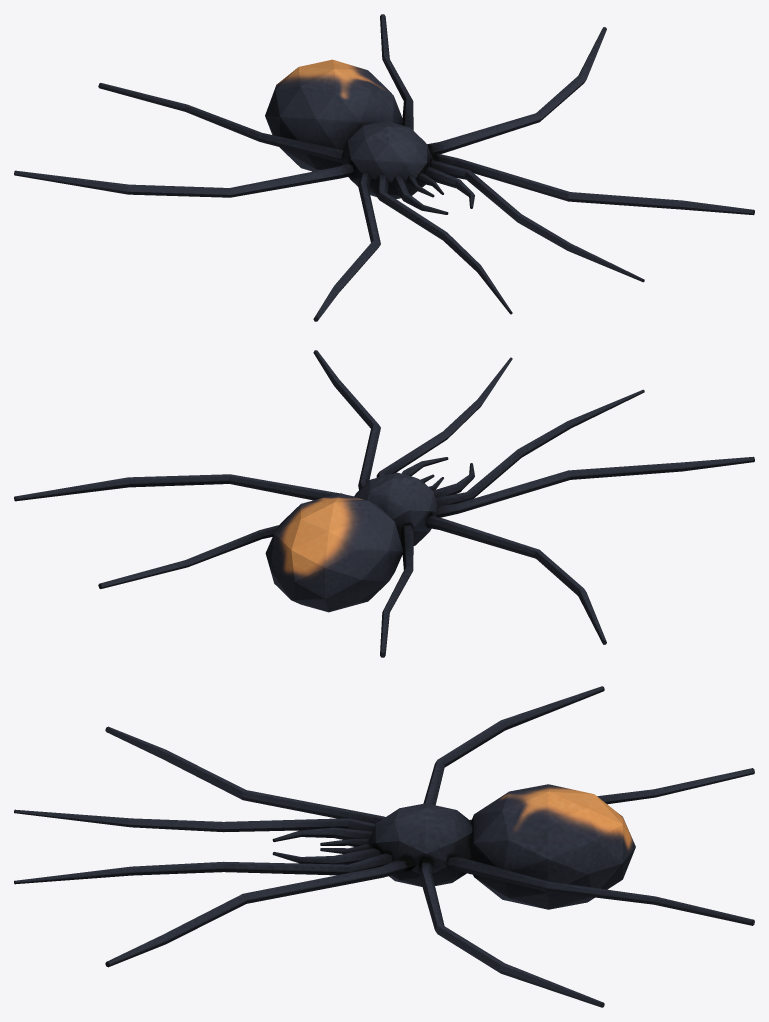
Rendered from Spider_01.FBX.
3 views of the same model, one above another, from view 1: azimuth 30°, elevation 25°; view 2: azimuth 150°, elevation 25°; view 3: azimuth 270°, elevation 25° (orthographic). The views are drawn at different scales.
Visible parts, largest first — view 1: Spider_01, Spider_Right_Third_Leg_01, Spider_Left_Second_Leg_01, Spider_Right_Four_Leg_01, Spider_Left_Third_Leg_01, Spider_Left_First_Leg_01, Spider_Right_First_Leg_01, Spider_Right_Second_Leg_01, Spider_Left_Four_Leg_01; view 2: Spider_01, Spider_Right_Second_Leg_01, Spider_Left_Third_Leg_01, Spider_Right_Third_Leg_01, Spider_Right_First_Leg_01, Spider_Left_Four_Leg_01, Spider_Left_First_Leg_01, Spider_Left_Second_Leg_01, Spider_Right_Four_Leg_01; view 3: Spider_01, Spider_Left_First_Leg_01, Spider_Left_Second_Leg_01, Spider_Right_First_Leg_01, Spider_Left_Four_Leg_01, Spider_Right_Second_Leg_01, Spider_Left_Third_Leg_01, Spider_Right_Third_Leg_01, Spider_Right_Four_Leg_01.
Part boxes in pixels (x1,y1,x2,y2): Spider_01: (265,59,474,214); Spider_Right_Third_Leg_01: (14,163,354,197); Spider_Left_Second_Leg_01: (430,152,754,215); Spider_Right_Four_Leg_01: (98,83,343,163); Spider_Left_Third_Leg_01: (427,27,606,153); Spider_Left_First_Leg_01: (430,160,644,282); Spider_Right_First_Leg_01: (376,174,512,314); Spider_Right_Second_Leg_01: (313,171,380,321); Spider_Left_Four_Leg_01: (380,14,413,130); Spider_01: (265,457,474,612); Spider_Right_Second_Leg_01: (436,456,754,517); Spider_Left_Third_Leg_01: (14,474,353,501); Spider_Right_Third_Leg_01: (425,515,606,644); Spider_Right_First_Leg_01: (435,389,644,505); Spider_Left_Four_Leg_01: (98,525,278,588); Spider_Left_First_Leg_01: (376,357,512,477); Spider_Left_Second_Leg_01: (313,350,380,489); Spider_Right_Four_Leg_01: (380,525,413,657); Spider_01: (272,784,635,909); Spider_Left_First_Leg_01: (14,853,392,884); Spider_Left_Second_Leg_01: (105,858,416,967); Spider_Right_First_Leg_01: (14,809,375,832); Spider_Left_Four_Leg_01: (446,856,754,925); Spider_Right_Second_Leg_01: (105,726,385,823); Spider_Left_Third_Leg_01: (419,859,604,1007); Spider_Right_Third_Leg_01: (423,686,604,805); Spider_Right_Four_Leg_01: (470,768,754,820).
Size of the model in its own units: 7.49 by 1.21 by 7.37.
